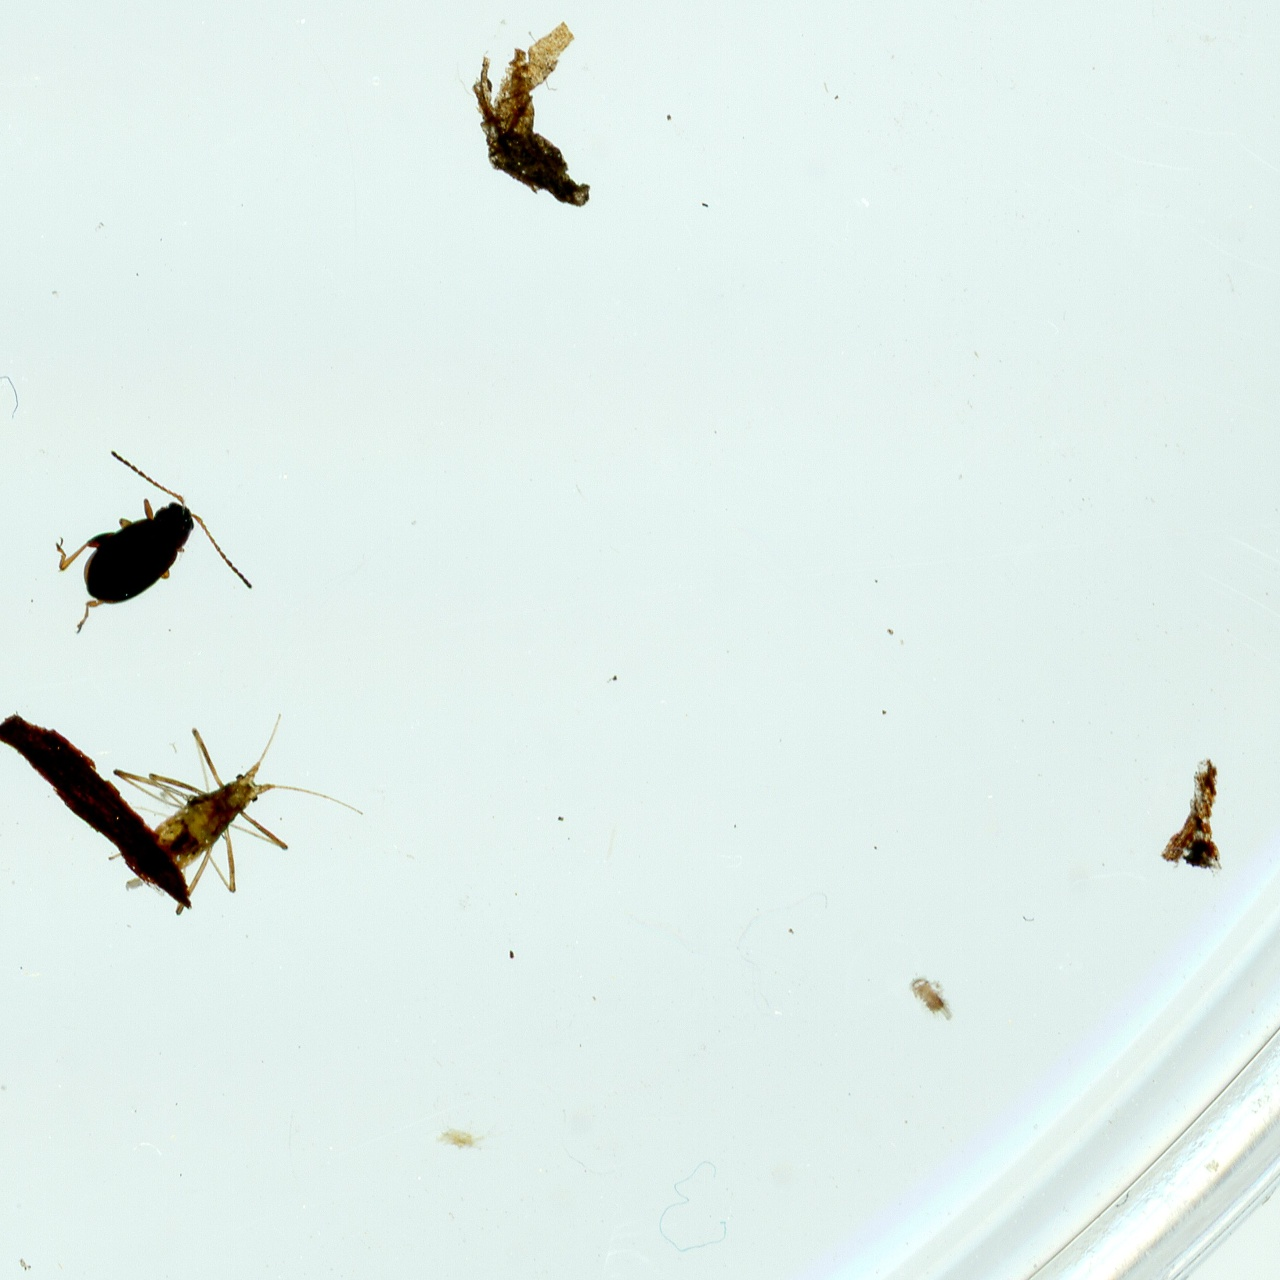arthropod: (53, 659, 377, 959), (0, 421, 268, 699), (904, 966, 964, 1033)
